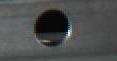holes: (33, 8, 71, 47)
